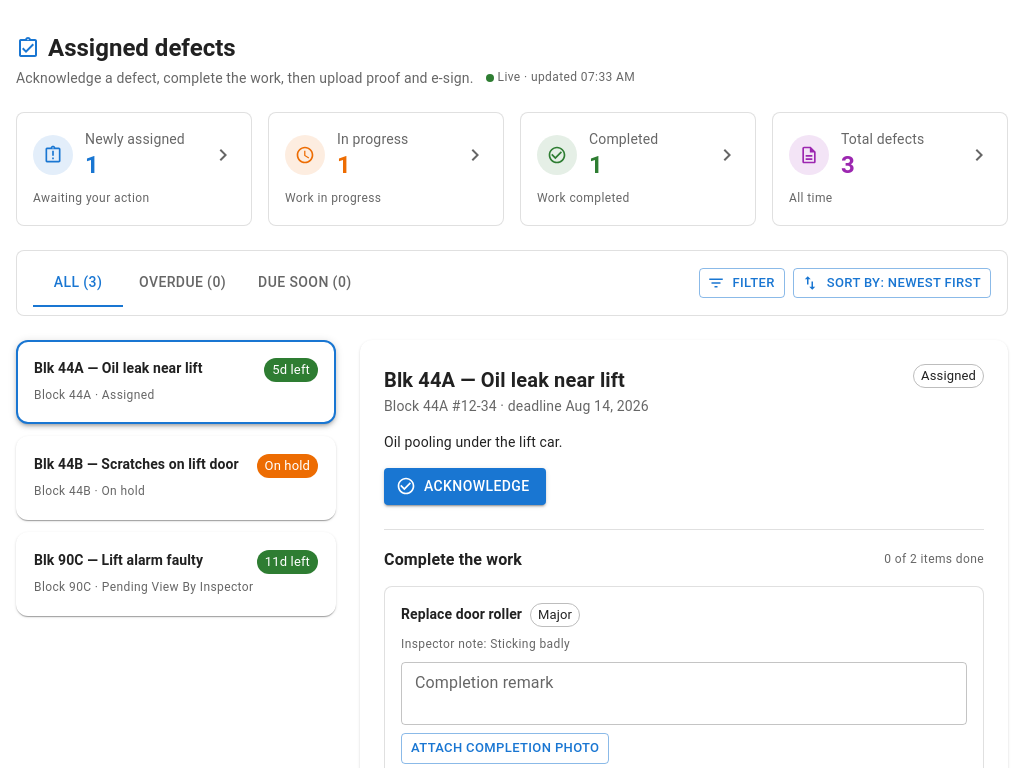
Test case: ContractorInboxPage › acknowledge › a submitted defect offers no further action
Click the heading "Blk 90C — Lift alarm faulty": (122, 561) top-left (34, 550), bottom-right (211, 572)
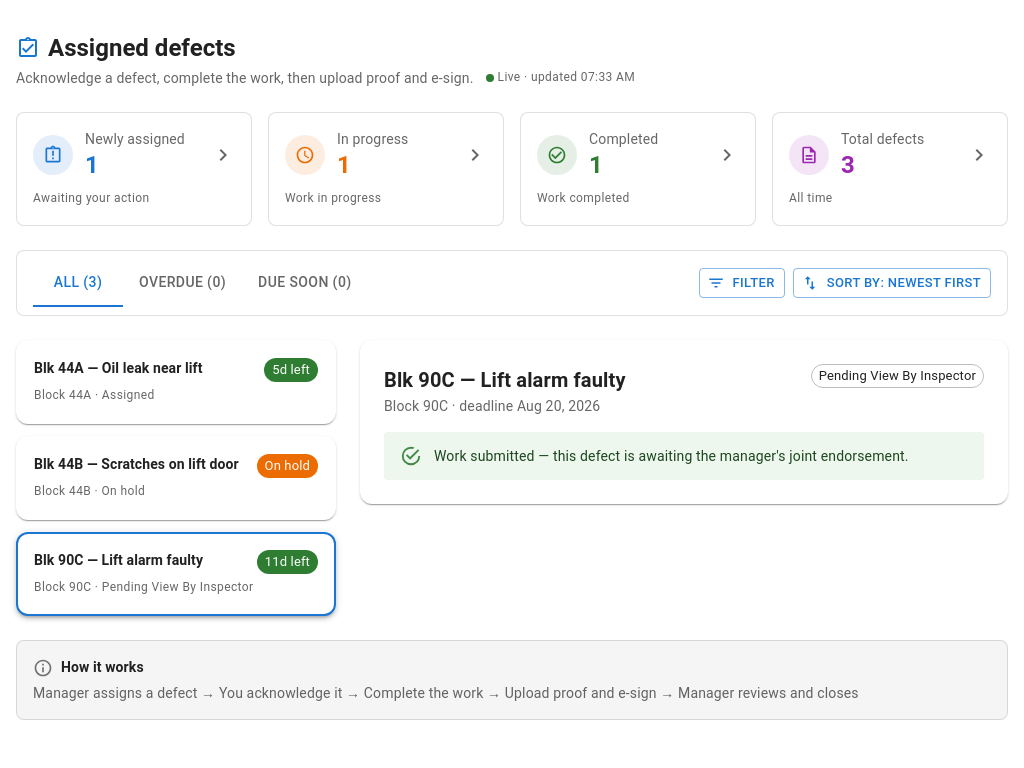
Now the text "awaiting the manager's joint endorsement" is shown, box top-left (434, 448), bottom-right (909, 464)
